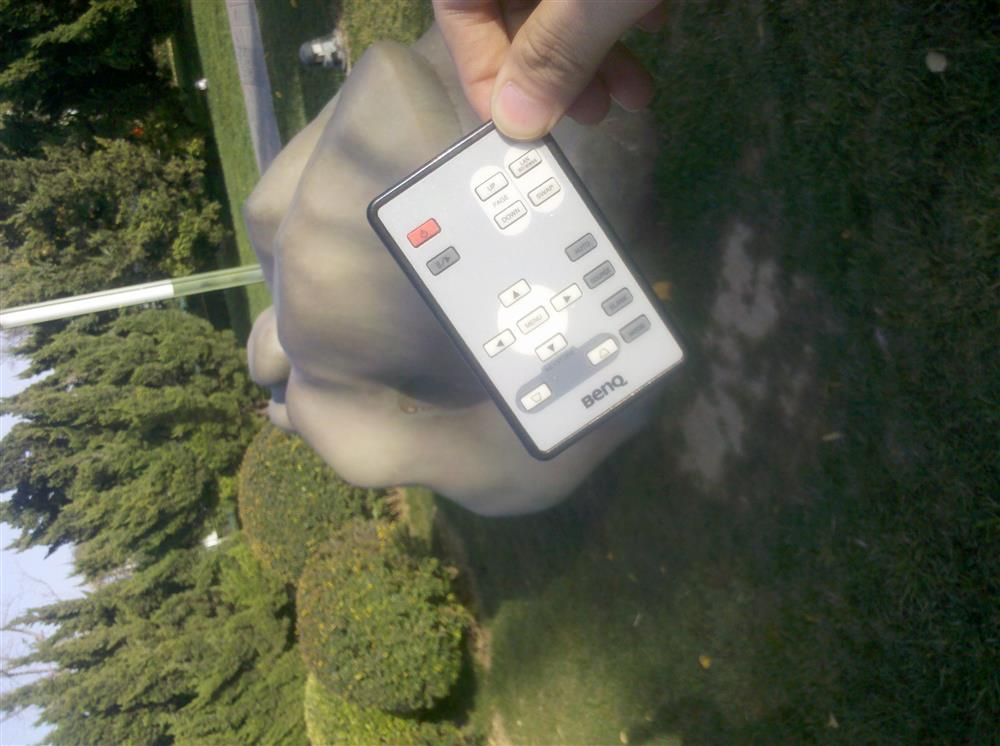BenQ_remote: (374, 109, 680, 454)
